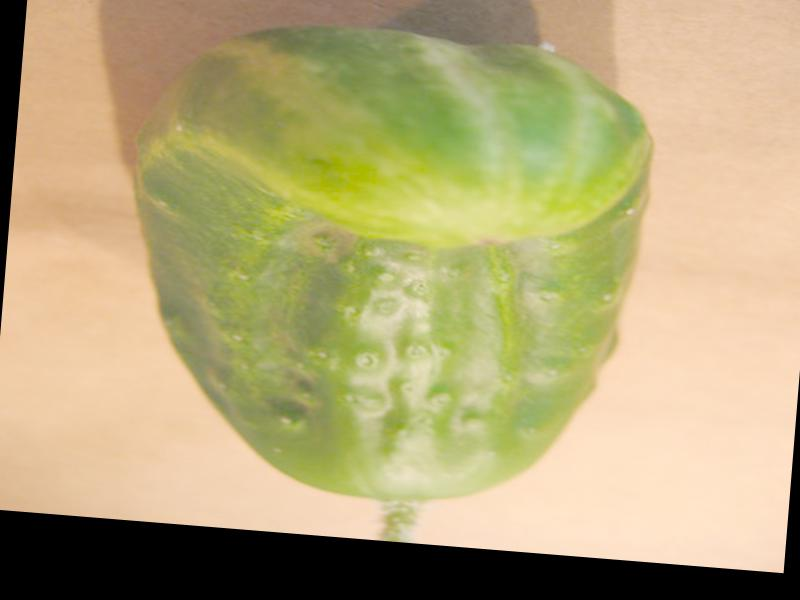Cucumber: (115, 11, 665, 521)
